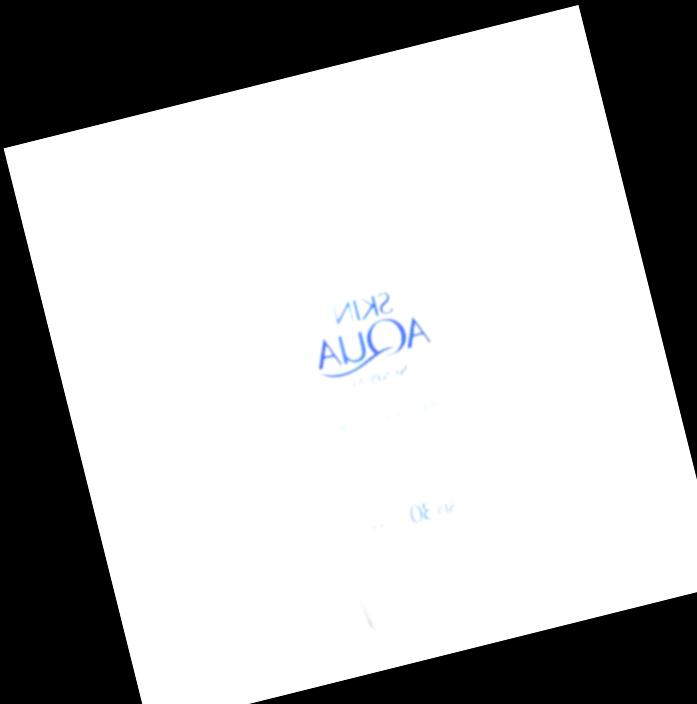cosmetic: (233, 96, 520, 632)
